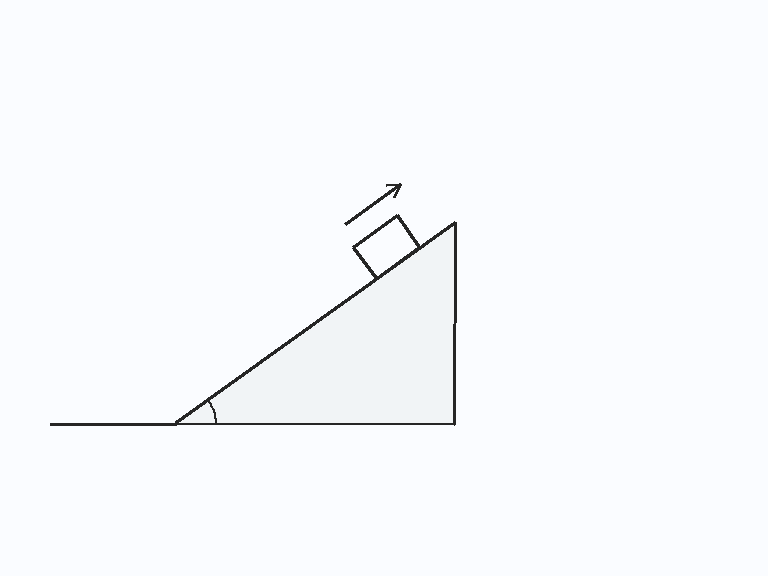block: (351, 213, 422, 280)
ramp: (174, 220, 456, 426)
